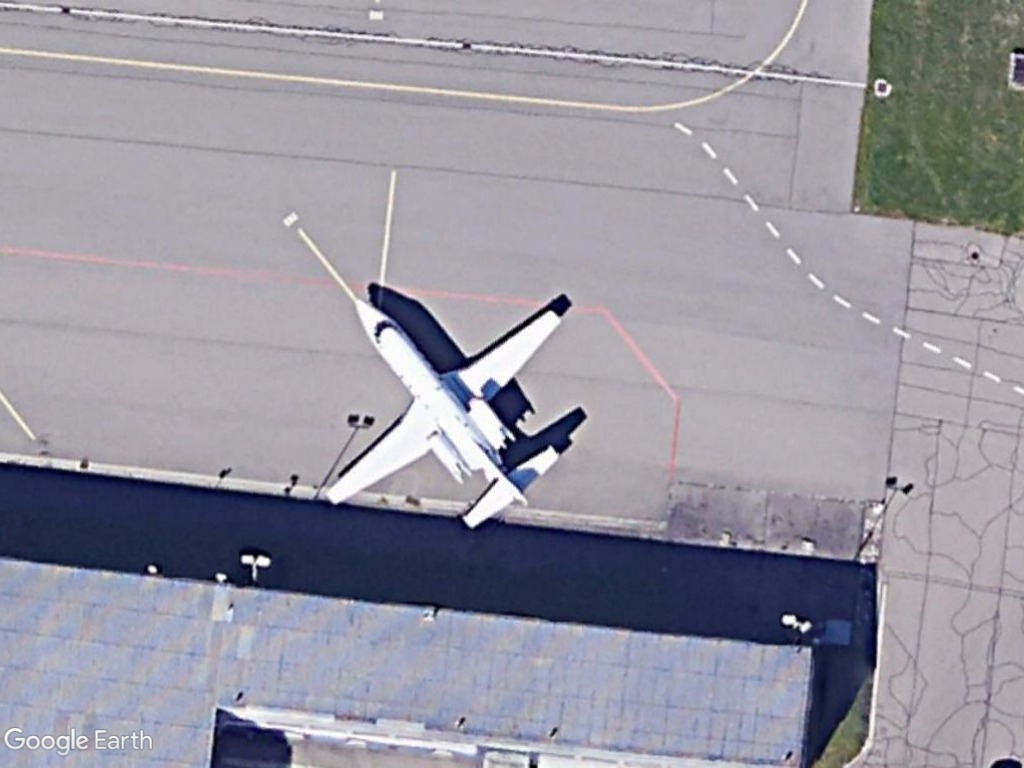chartered: (320, 297, 567, 534)
